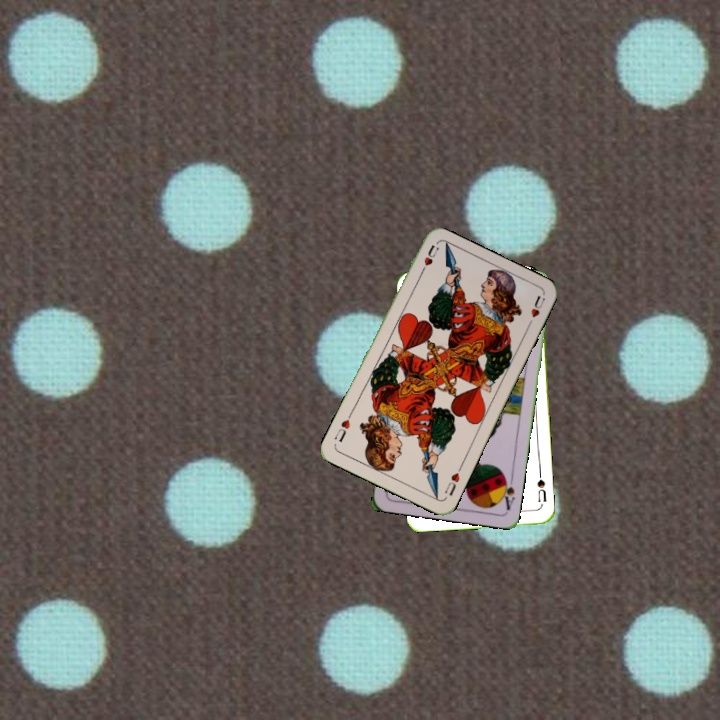HU: (415, 241, 441, 279), (440, 462, 464, 498)
SA: (497, 471, 517, 513)
SU: (533, 469, 549, 505)
